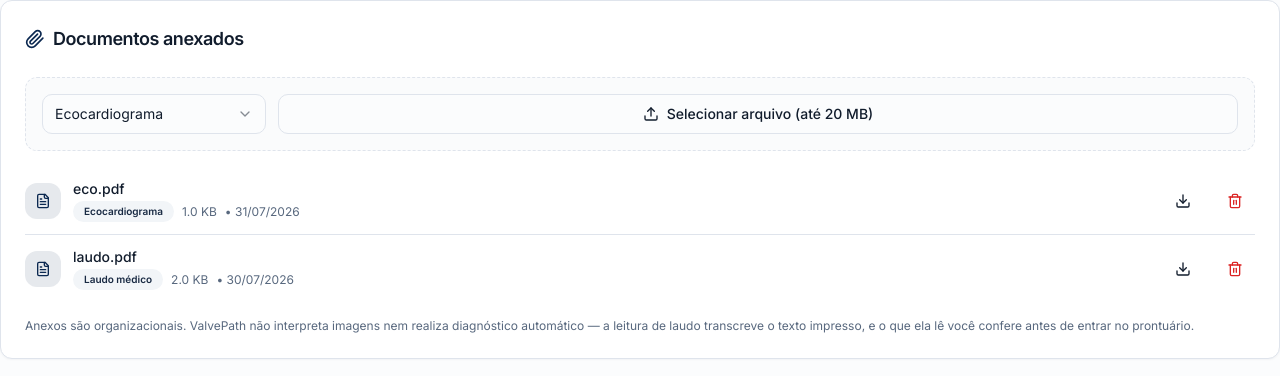
Test: CaseDocuments › excluir faz soft-delete, PRESERVA o arquivo e registra auditoria
Expected: the text "eco.pdf" is shown, [73,180,125,197]
Click the 3rd button at (1235, 200), box [1215,180,1255,220]
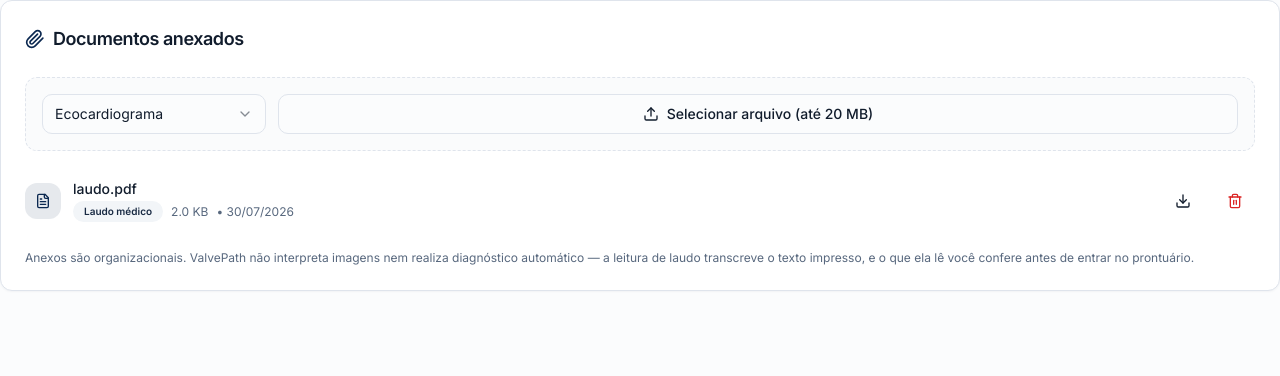
Result: the text "eco.pdf" is gone
